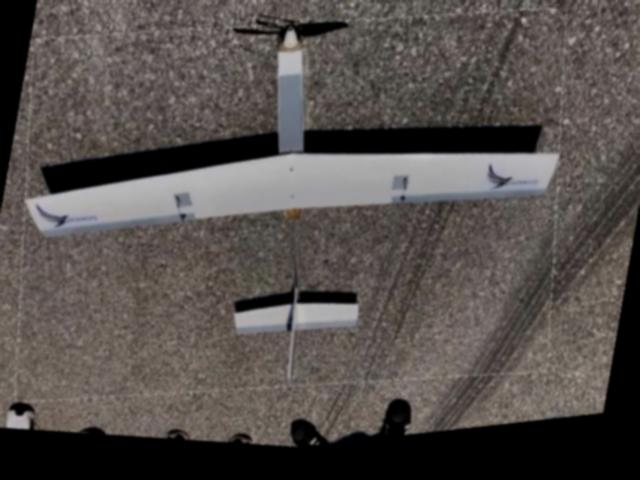insansiz-hava-araci: (0, 0, 596, 477)
